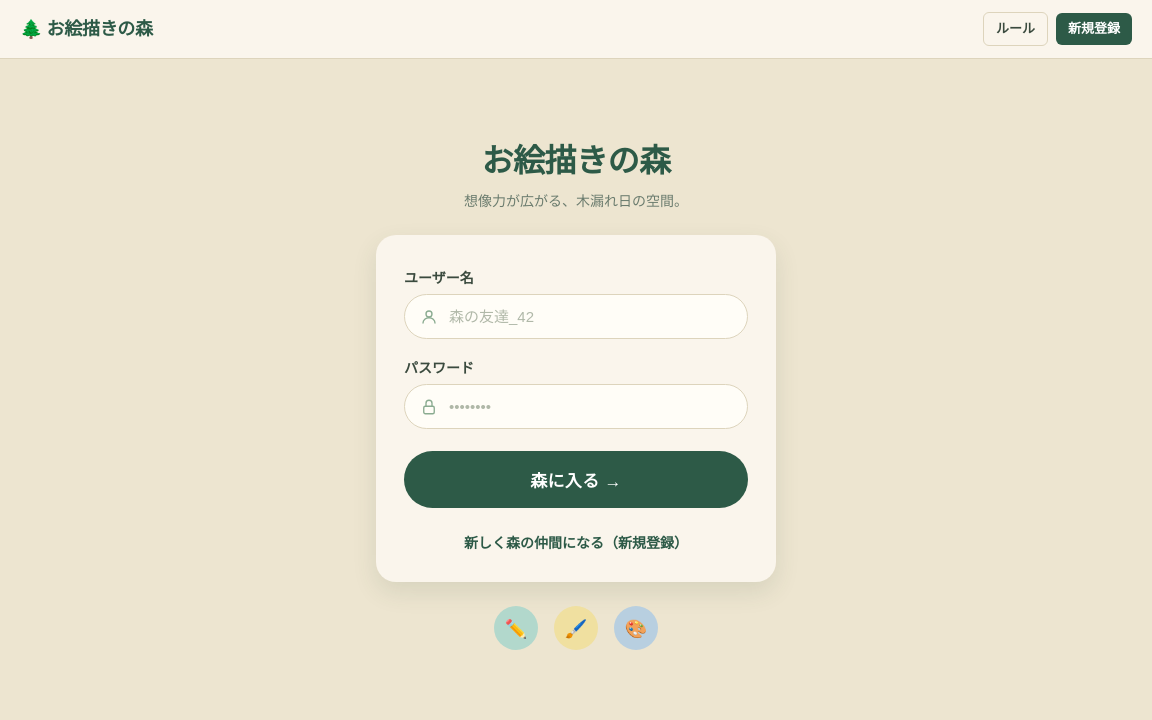
Test: Login ページ › 未入力で送信するとエラーが表示される
Click the button "森に入る →" at {"x": 576, "y": 480}, box [404,451,748,508]
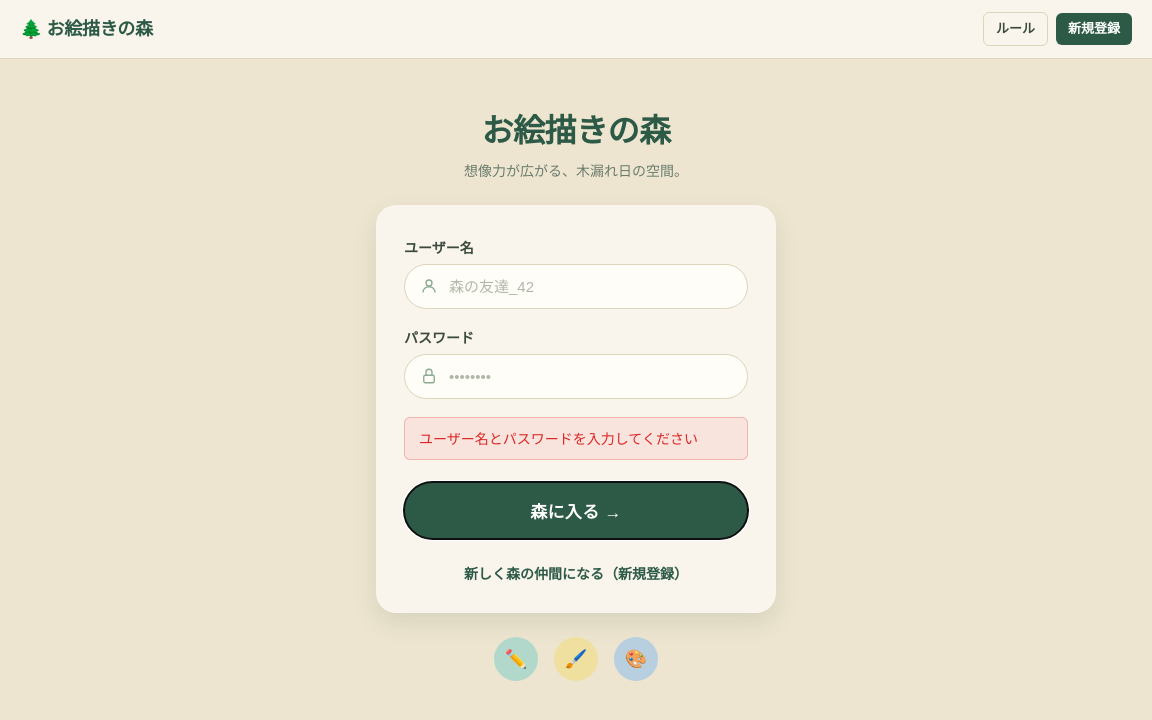
Expected: the message reads "ユーザー名とパスワードを入力してください", [419,429,698,448]
